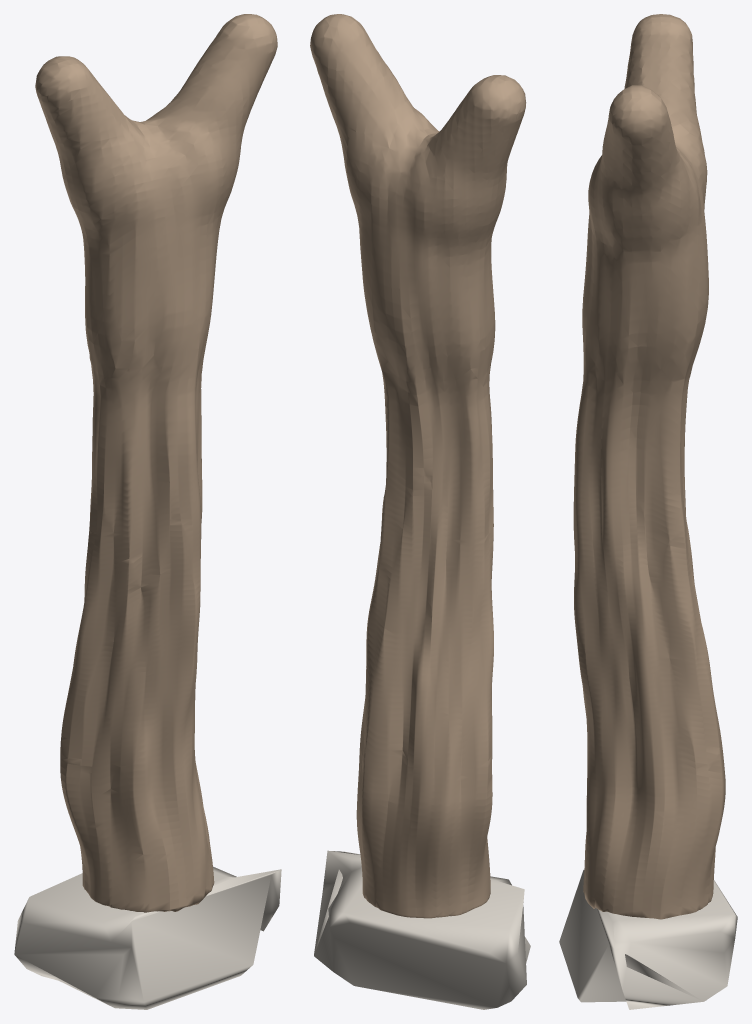
The model's file is bagana-f1-3x9-v2.glb.
3 views of the same model, side by side, from view 1: azimuth 30°, elevation 25°; view 2: azimuth 150°, elevation 25°; view 3: azimuth 270°, elevation 25° (orthographic).
Visible parts, largest first — view 1: bagana_wood, bagana_stone; view 2: bagana_wood, bagana_stone; view 3: bagana_wood, bagana_stone.
Part boxes in pixels (<box>): bagana_wood: <box>35,14,277,912</box>; bagana_stone: <box>14,866,281,1009</box>; bagana_wood: <box>310,14,526,918</box>; bagana_stone: <box>314,850,530,1009</box>; bagana_wood: <box>573,14,725,919</box>; bagana_stone: <box>559,870,737,1009</box>.
Bounding box in the file's own units: 0.6597 × 2.5 × 0.4309.
